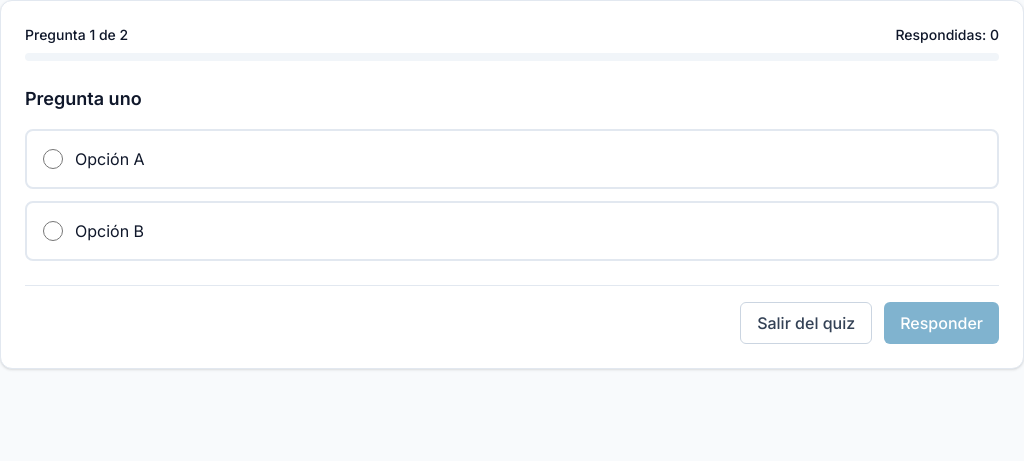
Scenario: Quiz view › carga pregunta y permite navegar entre preguntas
The image size is (1024, 461).
Expected: the text "Pregunta uno" is shown, x1=25 y1=88 x2=142 y2=109
// Seleccionar opción A
Click the radio button labelled "Opción A".
click(53, 159)  # box x1=43 y1=149 x2=63 y2=169
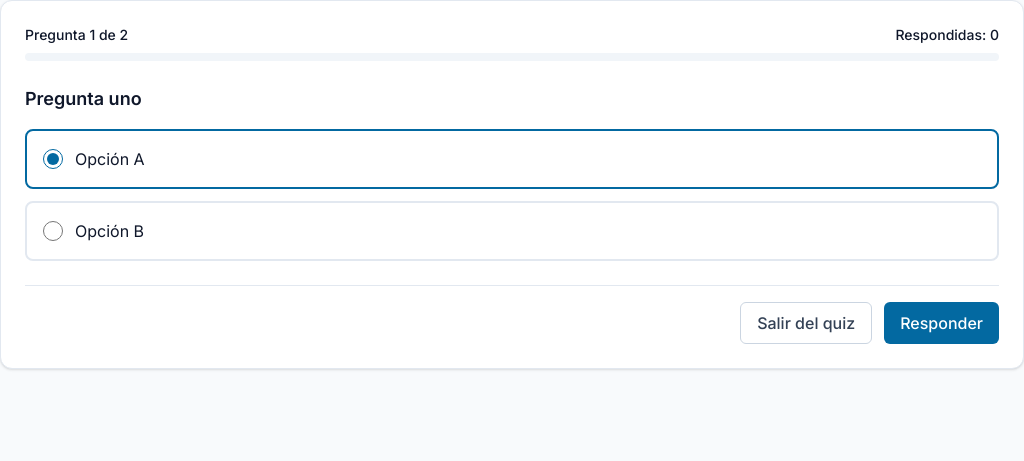
Click the button "Responder".
click(942, 323)  # box x1=884 y1=302 x2=999 y2=344
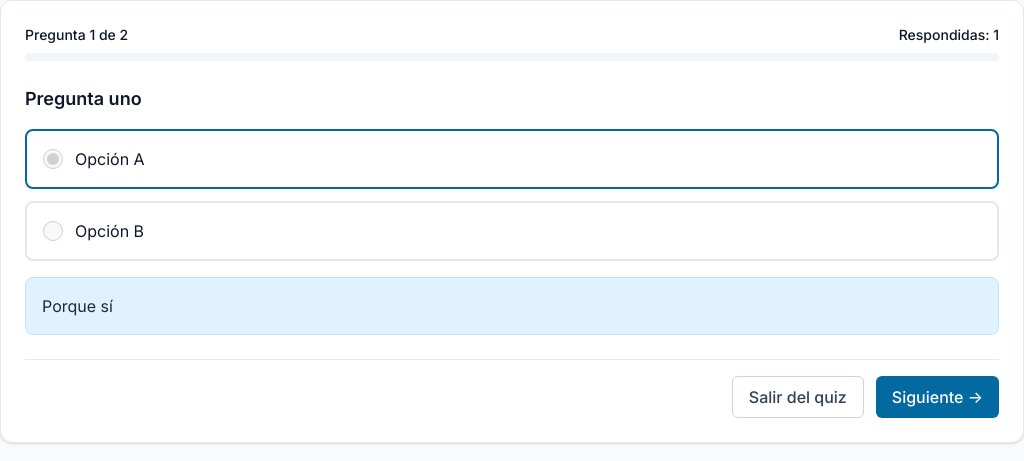
Now the text "Porque sí" is shown, box x1=42 y1=296 x2=113 y2=316
Click the button with test id "quiz-next".
click(937, 397)  # box x1=876 y1=376 x2=999 y2=418
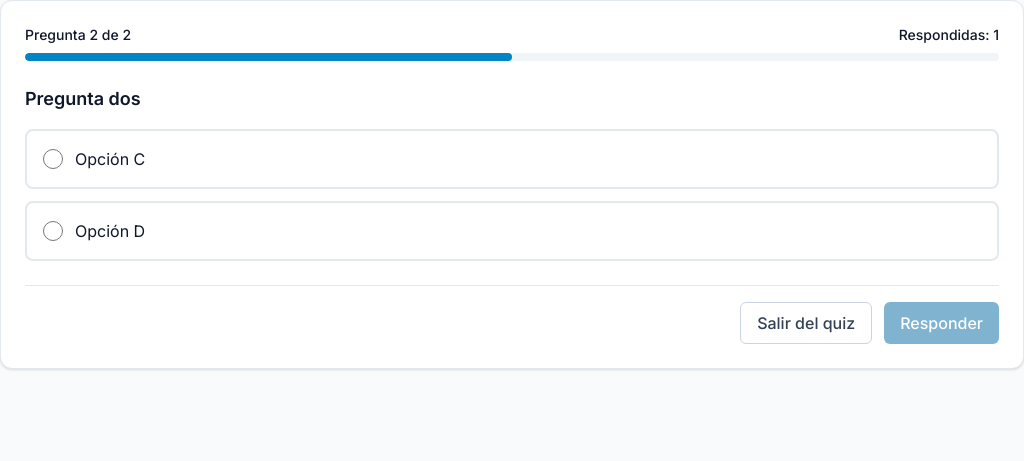
Now the text "Pregunta dos" is shown, box x1=25 y1=88 x2=141 y2=109
Now the text "2" is shown, box x1=89 y1=26 x2=98 y2=43
